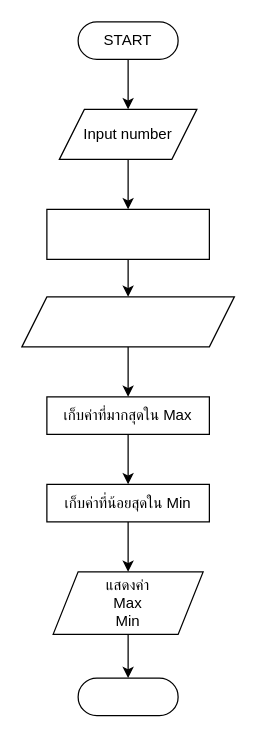
Image size: 256x738. Some labels were removed from this diagram. Each missing label, with the box of its shape:
END: (77, 677, 178, 716)
สุ่มเลขเท่ากับ(อินพุต)ครั้ง: (46, 208, 209, 259)
แสดงเลขที่สุ่มครั้งที่ 0 ถึง n: (21, 296, 234, 347)
